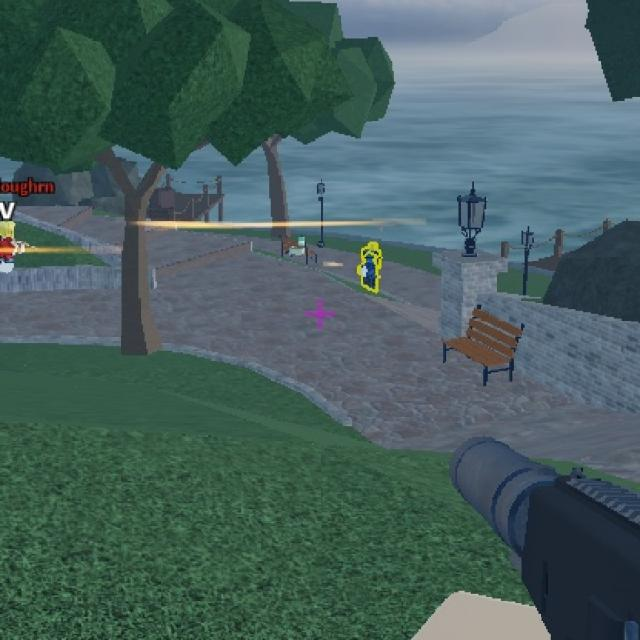player: (357, 240, 382, 293)
